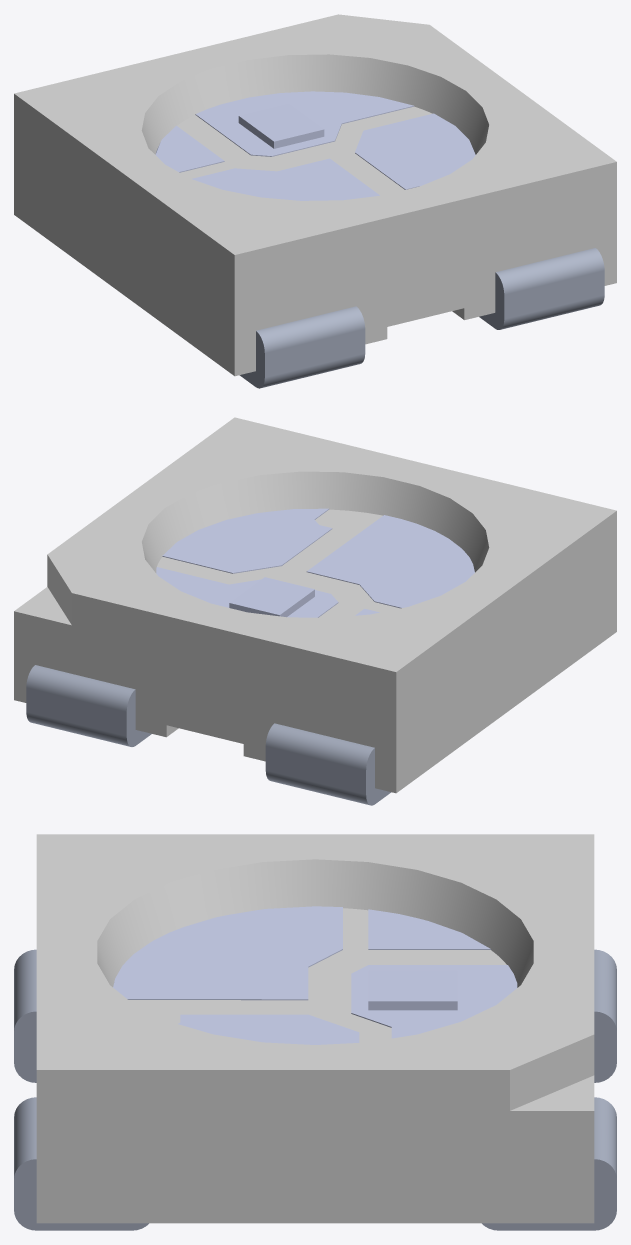
3 views of the same model, one above another, from view 1: azimuth 30°, elevation 25°; view 2: azimuth 150°, elevation 25°; view 3: azimuth 270°, elevation 25° (orthographic). The views are drawn at different scales.
Visible parts, largest first — view 1: Led_WS2812B_5050; view 2: Led_WS2812B_5050; view 3: Led_WS2812B_5050.
Boxes of the visible parts, bbox=[...] form: Led_WS2812B_5050: bbox=[14, 14, 616, 388]; Led_WS2812B_5050: bbox=[14, 417, 616, 805]; Led_WS2812B_5050: bbox=[14, 834, 616, 1230].
Bounding box in the file's own units: 0.00495 × 0.0017 × 0.00535.
